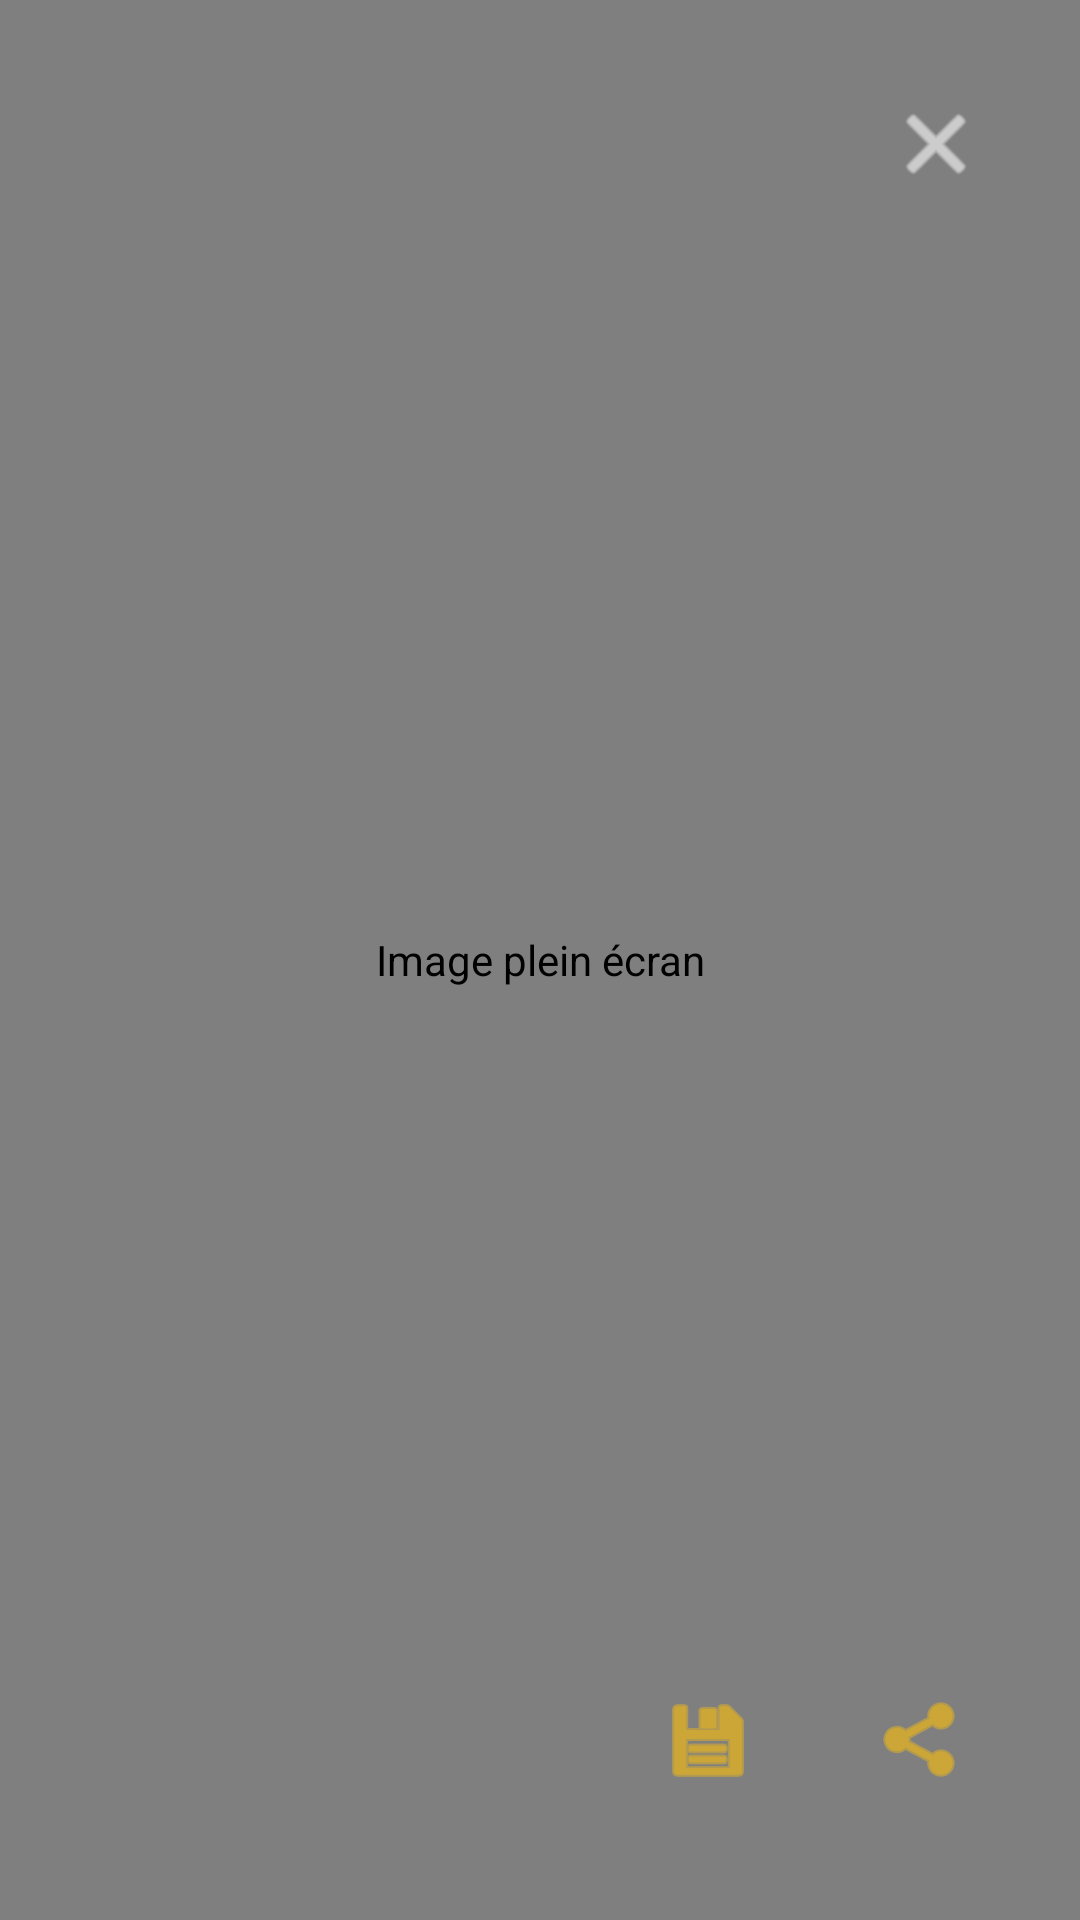

Icons on this 1080×1920 Android screen, each with its box as (x1, y1, x2, y2):
Fermer: (906, 114, 966, 174)
Partager: (883, 1702, 955, 1777)
